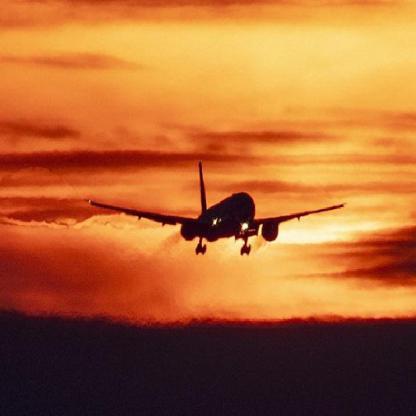CIV_Plane: (82, 155, 349, 266)
